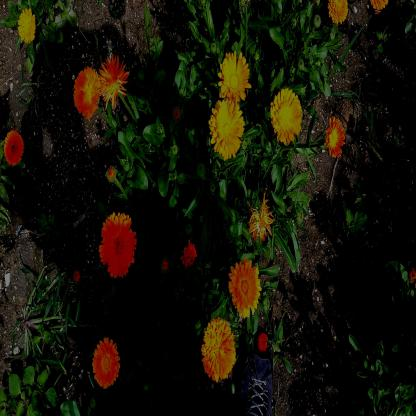marigold: (98, 211, 136, 280), (200, 316, 237, 384), (208, 97, 244, 159), (228, 255, 262, 319), (216, 50, 252, 106), (270, 87, 302, 144), (98, 53, 130, 108), (91, 336, 120, 389), (74, 65, 102, 119), (325, 115, 345, 158), (3, 129, 24, 166), (18, 7, 36, 44)
